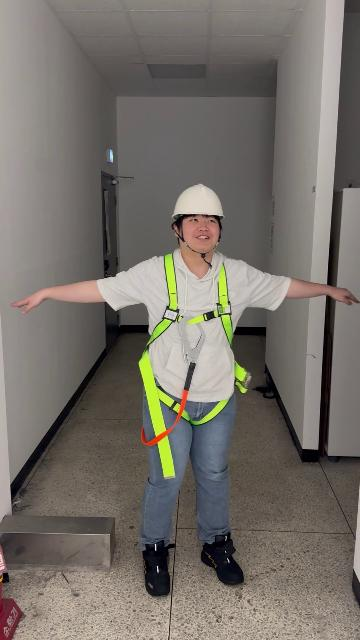helmet_worn: (171, 182, 226, 221)
shoe_worn: (200, 534, 243, 585), (141, 540, 172, 596)
vest_worn: (136, 253, 249, 467)
